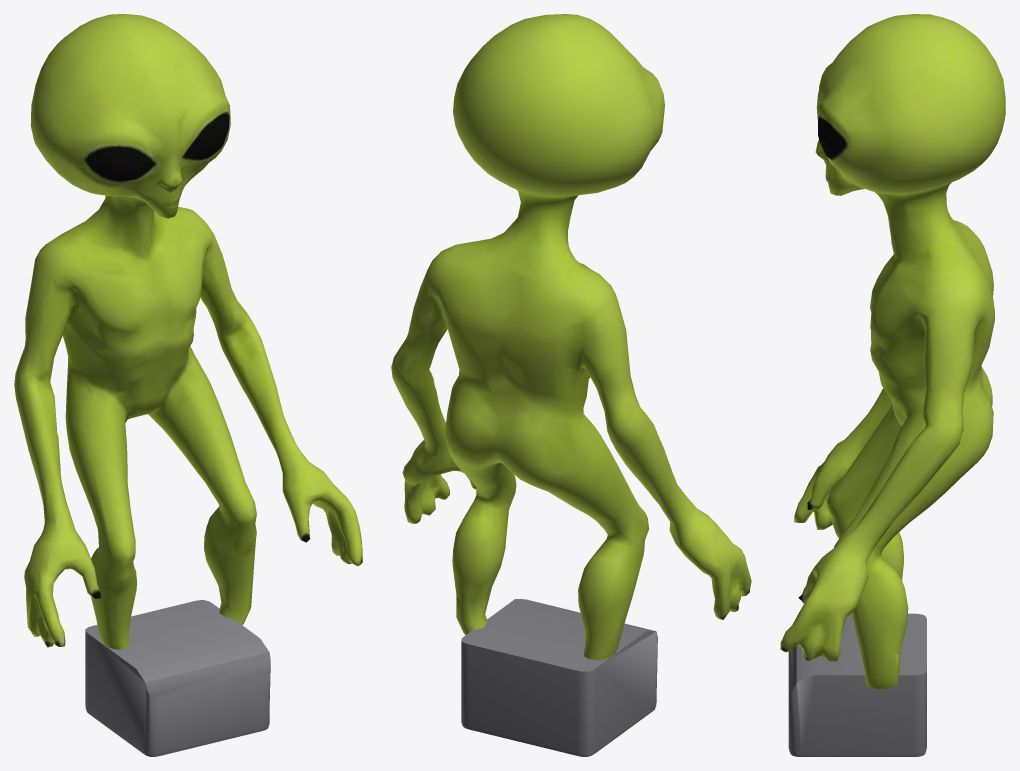
The model's file is alien_alta.glb.
The picture shows the model from 3 angles, left to right: view 1: azimuth 30°, elevation 25°; view 2: azimuth 150°, elevation 25°; view 3: azimuth 270°, elevation 25°; orthographic projection. The views are drawn at different scales.
Parts seen in each view (by area): view 1: alien; view 2: alien; view 3: alien.
Boxes of the visible parts, x1=… form: alien: x1=14, y1=14, x2=362, y2=756; alien: x1=391, y1=14, x2=751, y2=756; alien: x1=780, y1=14, x2=1005, y2=756.
Bounding box in the file's own units: 0.9611 × 2 × 0.5871.
2 materials, 1 textured.
